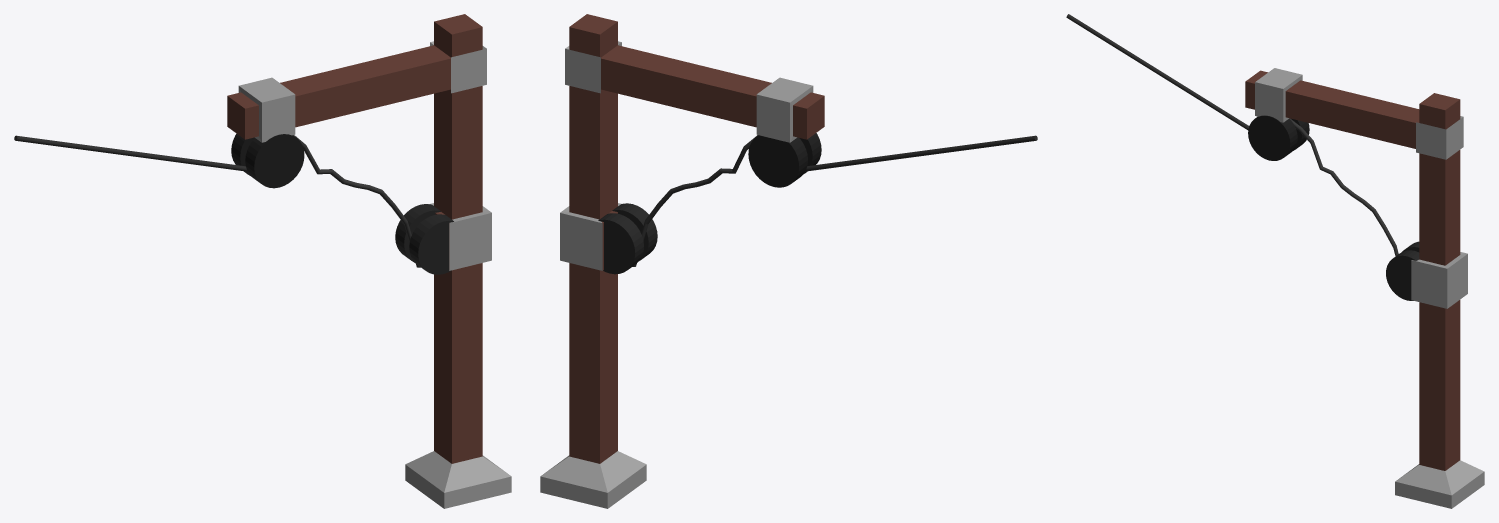
The model's file is rope stand.fbx.
3 views of the same model, side by side, from view 1: azimuth 30°, elevation 25°; view 2: azimuth 150°, elevation 25°; view 3: azimuth 330°, elevation 25° (orthographic). The views are drawn at different scales.
Visible parts, largest first — view 1: Cube, Cylinder, Cylinder.001, Cylinder.002, Cylinder.003; view 2: Cube, Cylinder.001, Cylinder, Cylinder.002, Cylinder.003; view 3: Cube, Cylinder, Cylinder.001, Cylinder.002, Cylinder.003.
Boxes of the visible parts, x1=… form: Cube: x1=227, y1=14, x2=511, y2=508; Cylinder: x1=231, y1=133, x2=304, y2=188; Cylinder.001: x1=395, y1=204, x2=453, y2=274; Cylinder.002: x1=14, y1=135, x2=247, y2=171; Cylinder.003: x1=293, y1=135, x2=420, y2=267; Cube: x1=540, y1=14, x2=824, y2=508; Cylinder.001: x1=598, y1=203, x2=657, y2=274; Cylinder: x1=748, y1=133, x2=821, y2=187; Cylinder.002: x1=805, y1=135, x2=1037, y2=171; Cylinder.003: x1=632, y1=135, x2=758, y2=266; Cube: x1=1245, y1=68, x2=1484, y2=508; Cylinder: x1=1248, y1=115, x2=1309, y2=160; Cylinder.001: x1=1386, y1=241, x2=1419, y2=300; Cylinder.002: x1=1066, y1=14, x2=1249, y2=130; Cylinder.003: x1=1289, y1=118, x2=1398, y2=256.
Bounding box in the file's own units: 1020 × 944 × 144.
